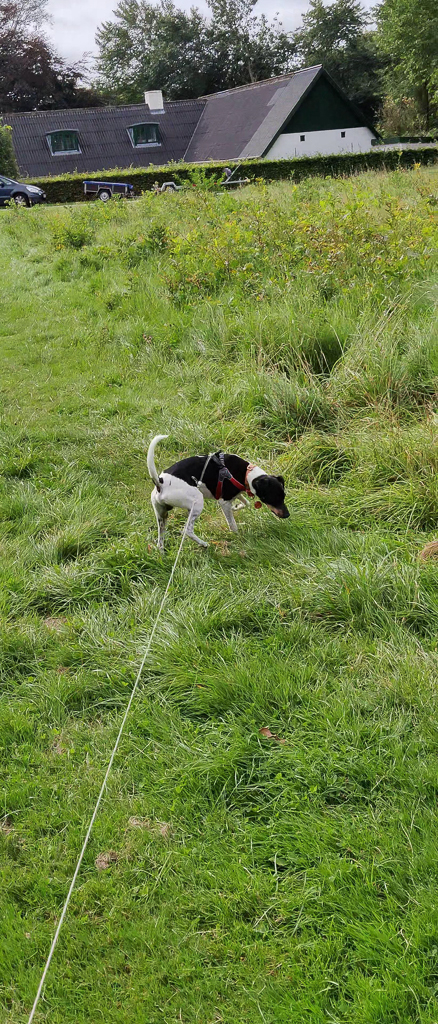Dog: (134, 429, 297, 553)
